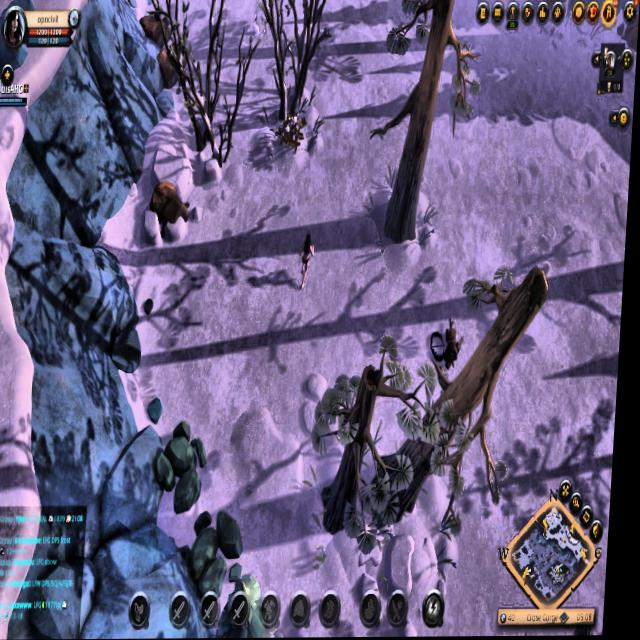cotton: (277, 111, 313, 154)
limestone: (143, 176, 194, 250), (151, 43, 192, 88), (137, 12, 171, 46)
sandstone: (184, 508, 252, 593), (158, 419, 216, 513)
